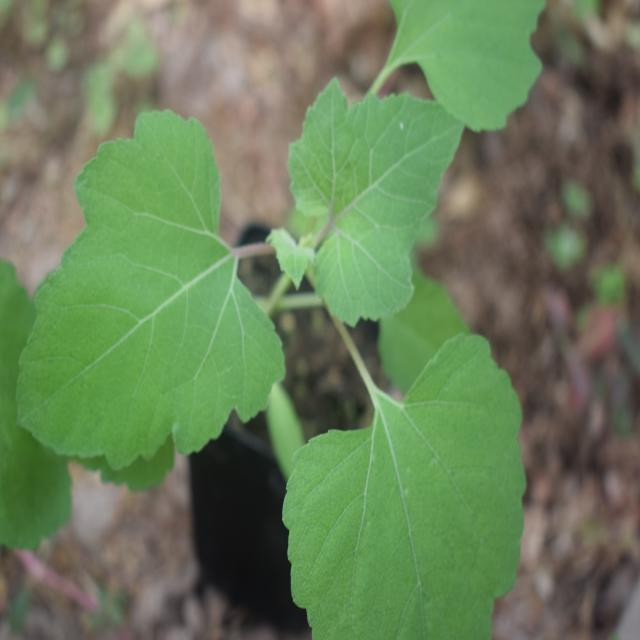cocklebur: (60, 14, 560, 618)
